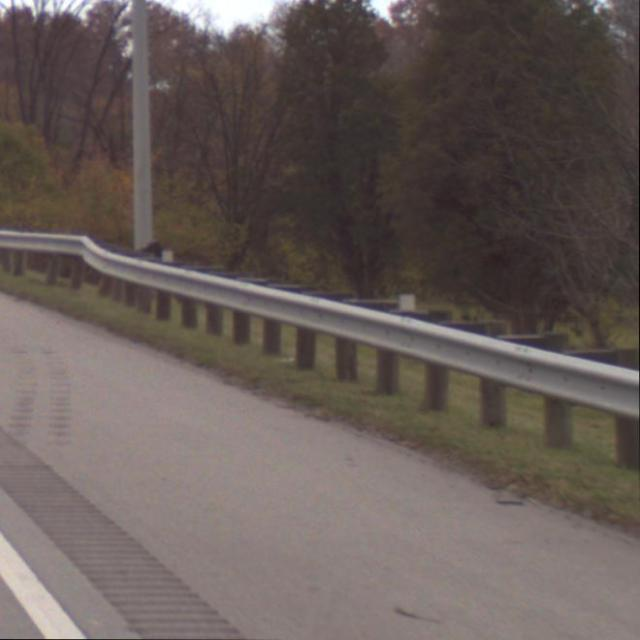Guard rail: (0, 224, 640, 480)
